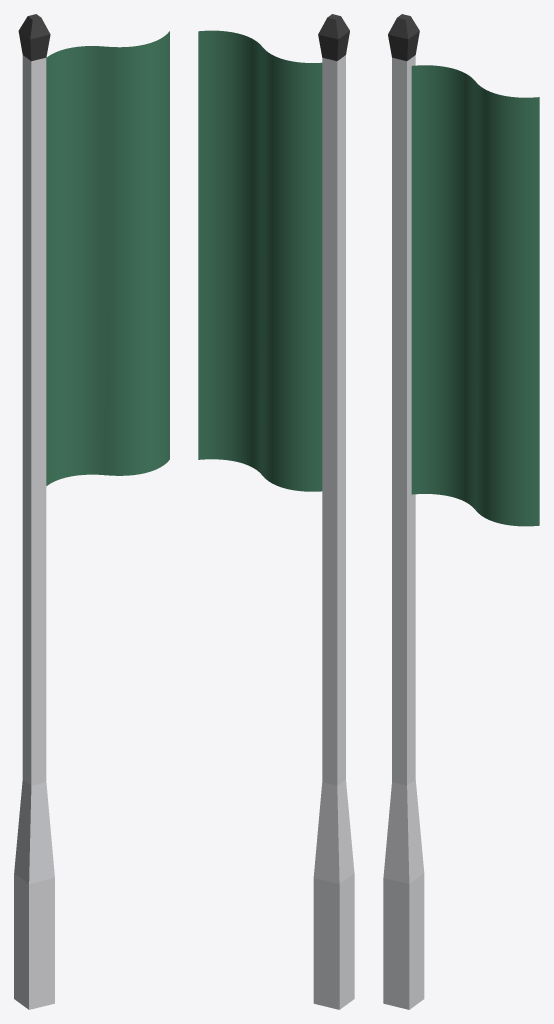
File: flagGreen.glb
3 views of the same model, side by side, from view 1: azimuth 30°, elevation 25°; view 2: azimuth 150°, elevation 25°; view 3: azimuth 330°, elevation 25° (orthographic).
Visible parts, largest first — view 1: flagGreen, Group; view 2: flagGreen, Group; view 3: flagGreen, Group.
Boxes of the visible parts, x1,y1,x2,y2 form: flagGreen: [46, 31, 169, 485]; Group: [14, 14, 54, 1009]; flagGreen: [198, 30, 322, 491]; Group: [313, 14, 354, 1009]; flagGreen: [411, 65, 539, 526]; Group: [383, 14, 424, 1009].
Bounding box in the file's own units: 0.1972 × 1.25 × 0.0352.
